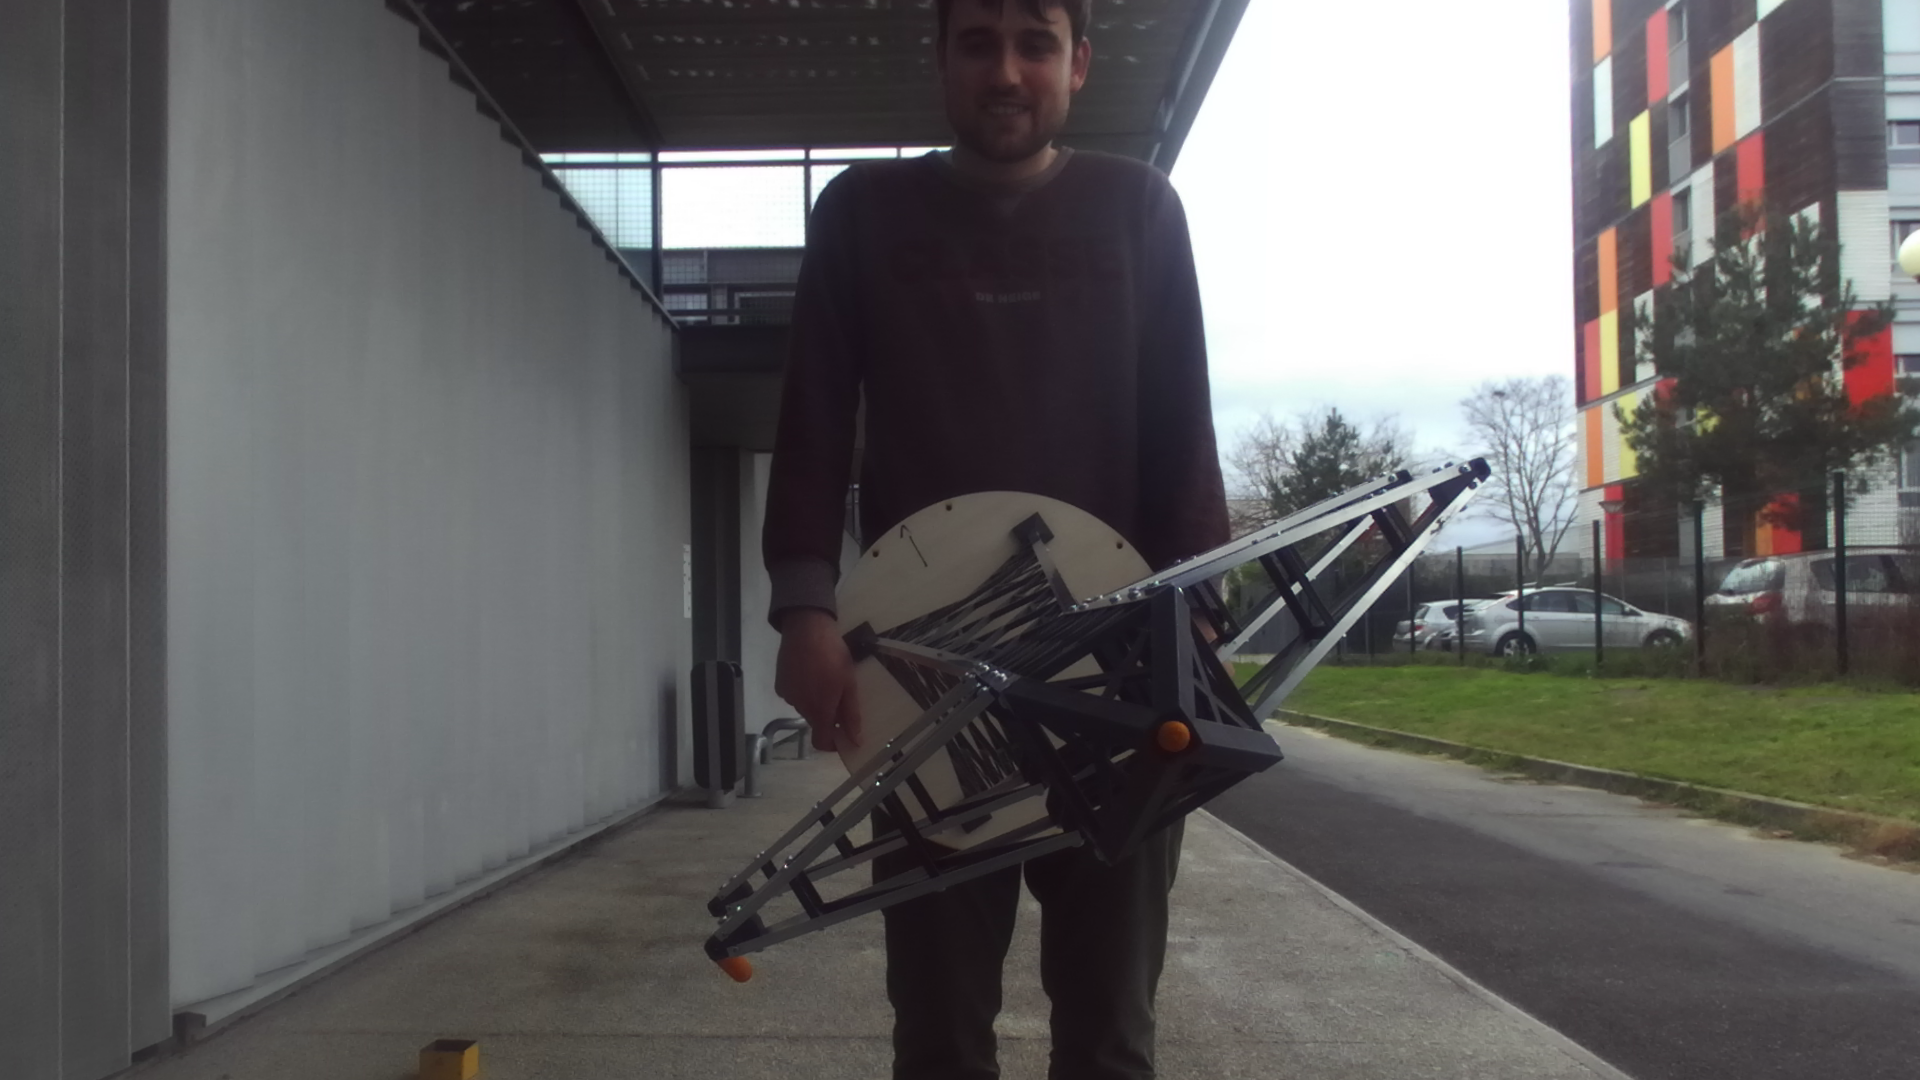pylon_phy: (700, 452, 1491, 968)
